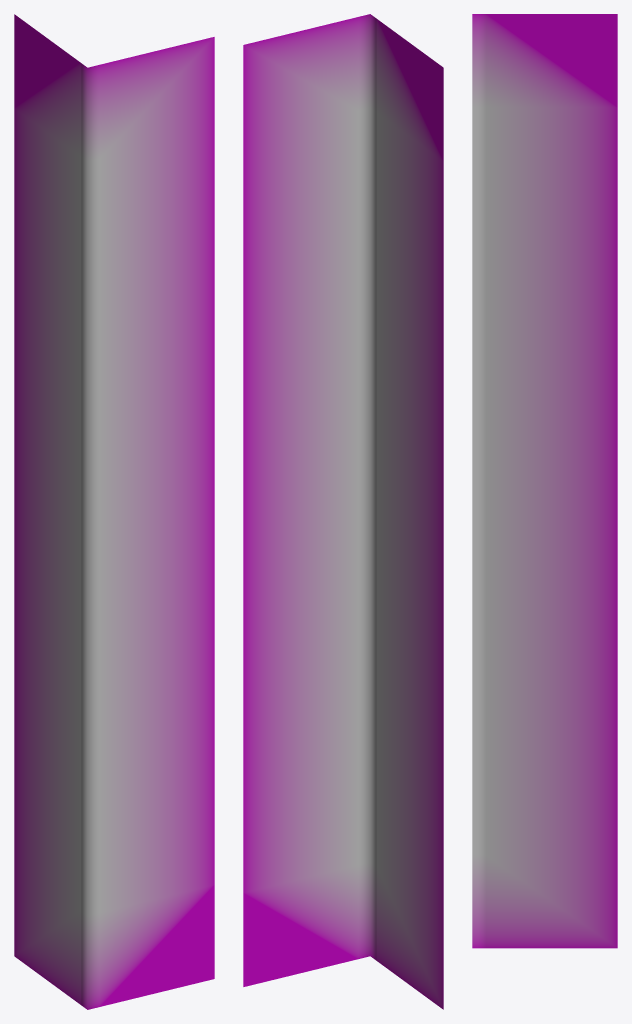
File: Decal_BrickStacked.fbx
3 views of the same model, side by side, from view 1: azimuth 30°, elevation 25°; view 2: azimuth 210°, elevation 25°; view 3: azimuth 270°, elevation 25° (orthographic).
Parts seen in each view (by area): view 1: Decal_BrickStacked; view 2: Decal_BrickStacked; view 3: Decal_BrickStacked.
Part boxes in pixels (bbox=[...]): Decal_BrickStacked: bbox=[14, 14, 214, 1009]; Decal_BrickStacked: bbox=[243, 14, 443, 1009]; Decal_BrickStacked: bbox=[472, 14, 617, 948].
Size of the model in its own units: 52.5 by 372 by 52.5.
